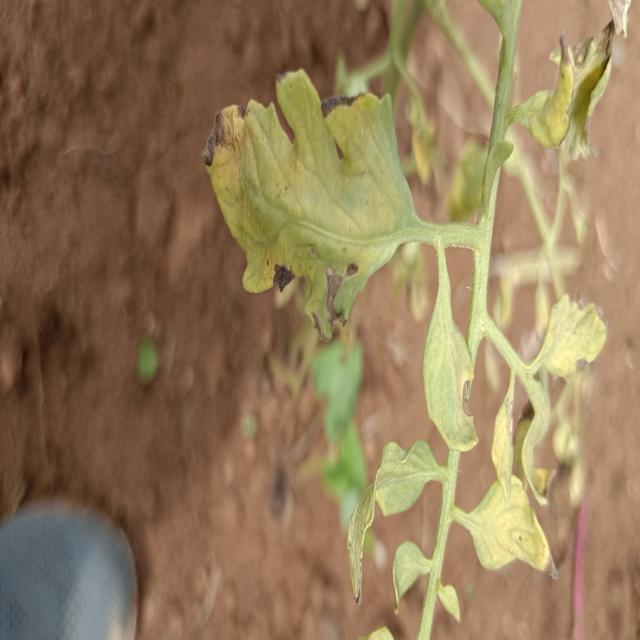tomato_early blight: (202, 67, 416, 339), (514, 6, 621, 160), (346, 436, 444, 603), (422, 256, 477, 450), (470, 468, 560, 578), (538, 288, 606, 379), (490, 392, 520, 500), (524, 387, 550, 505), (389, 535, 428, 611)
